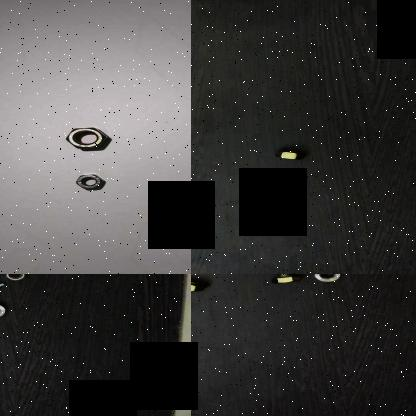Bolts: (269, 274, 301, 285)
NUTS: (60, 125, 116, 154), (72, 172, 110, 190), (268, 145, 306, 163), (309, 274, 339, 284), (191, 278, 209, 294), (3, 274, 27, 281), (0, 301, 6, 321)
